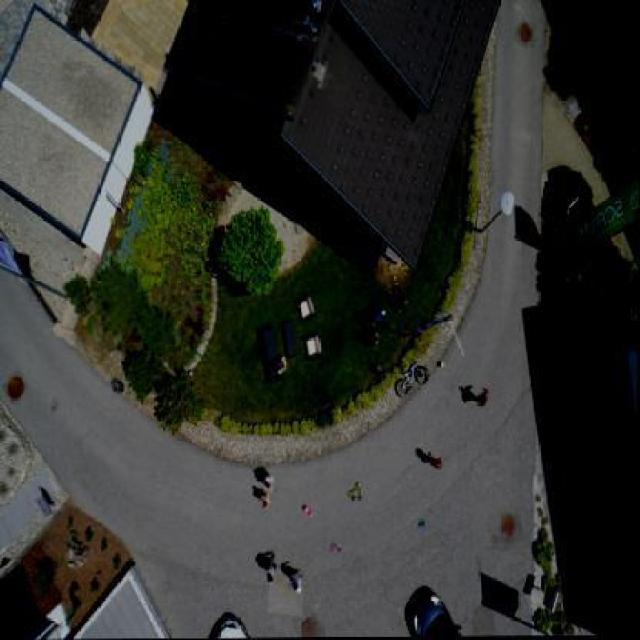Person: (248, 475, 278, 508), (472, 379, 500, 408), (424, 448, 453, 474), (292, 567, 314, 599), (268, 353, 294, 378), (264, 558, 281, 587), (262, 466, 280, 492), (375, 306, 397, 320), (372, 325, 386, 346)
